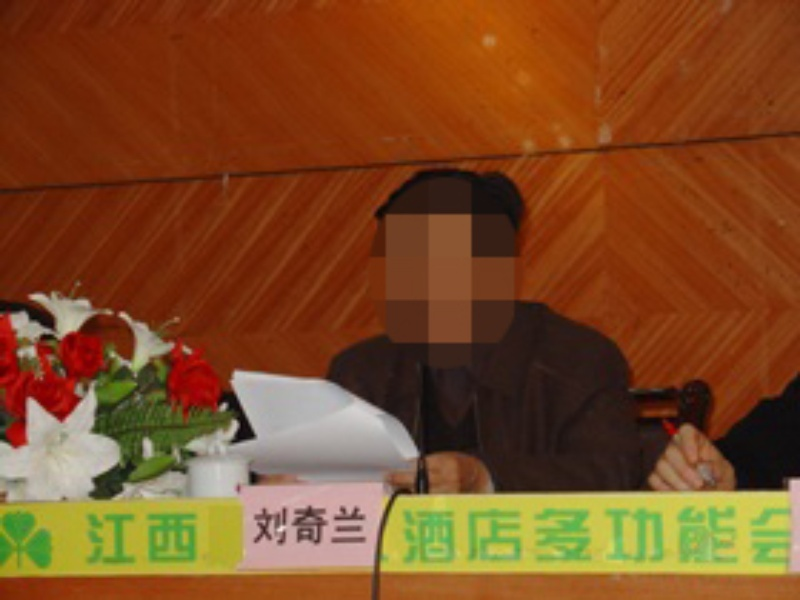text: (401, 506, 416, 566), (417, 506, 432, 566), (433, 506, 448, 566), (449, 506, 464, 566), (465, 506, 480, 566), (481, 506, 496, 566), (497, 506, 512, 566), (513, 506, 528, 566), (529, 506, 544, 566), (545, 506, 560, 566), (561, 506, 576, 566), (577, 506, 592, 566), (593, 506, 608, 566), (609, 506, 624, 566), (625, 506, 640, 566), (641, 506, 656, 566), (657, 506, 672, 566), (673, 506, 688, 566), (689, 506, 704, 566), (705, 506, 720, 566), (721, 506, 736, 566), (737, 506, 752, 566), (753, 506, 768, 566), (769, 506, 784, 566), (97, 512, 112, 566), (113, 512, 128, 566), (129, 512, 144, 566), (145, 512, 160, 566), (161, 512, 176, 566), (177, 512, 192, 566), (83, 512, 96, 566), (353, 503, 369, 546), (257, 503, 272, 546), (273, 503, 288, 546), (289, 503, 304, 546), (305, 503, 320, 546), (321, 503, 336, 546), (337, 503, 352, 546), (193, 512, 201, 566), (785, 506, 792, 566), (249, 503, 256, 546), (398, 506, 400, 566)
